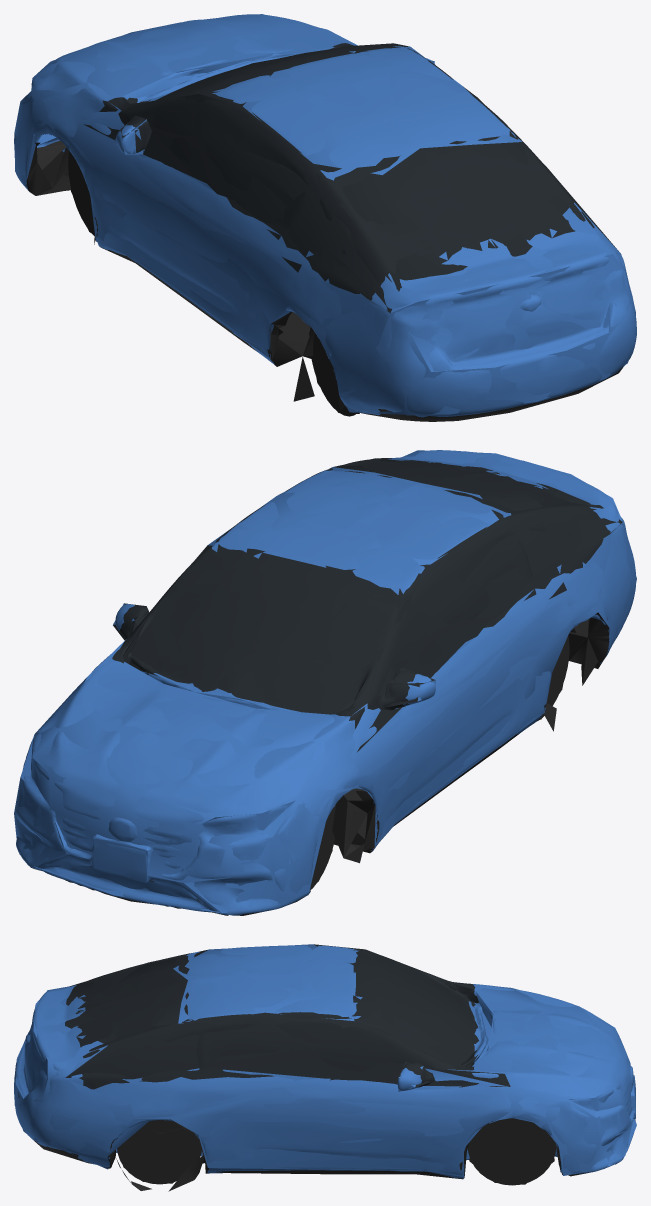
The model's file is honda-insight.glb.
3 views of the same model, one above another, from view 1: azimuth 30°, elevation 25°; view 2: azimuth 150°, elevation 25°; view 3: azimuth 270°, elevation 25° (orthographic). The views are drawn at different scales.
Parts seen in each view (by area): view 1: body, far; view 2: body, far; view 3: body, far.
Part boxes in pixels (x1,y1,x2,y2): body: [14, 14, 636, 421]; far: [14, 14, 635, 414]; body: [16, 450, 636, 915]; far: [14, 450, 636, 913]; body: [14, 945, 635, 1191]; far: [14, 944, 636, 1184].
Bounding box in the file's own units: 2.04 × 1.45 × 4.7.
